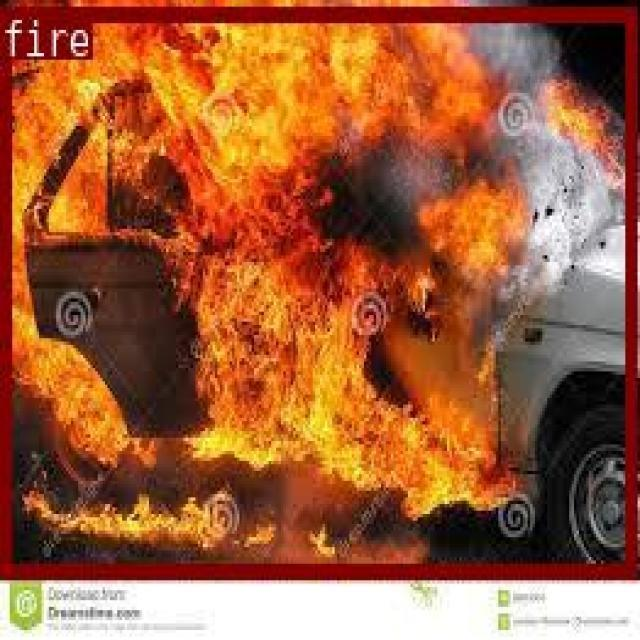fire: (0, 3, 635, 577)
